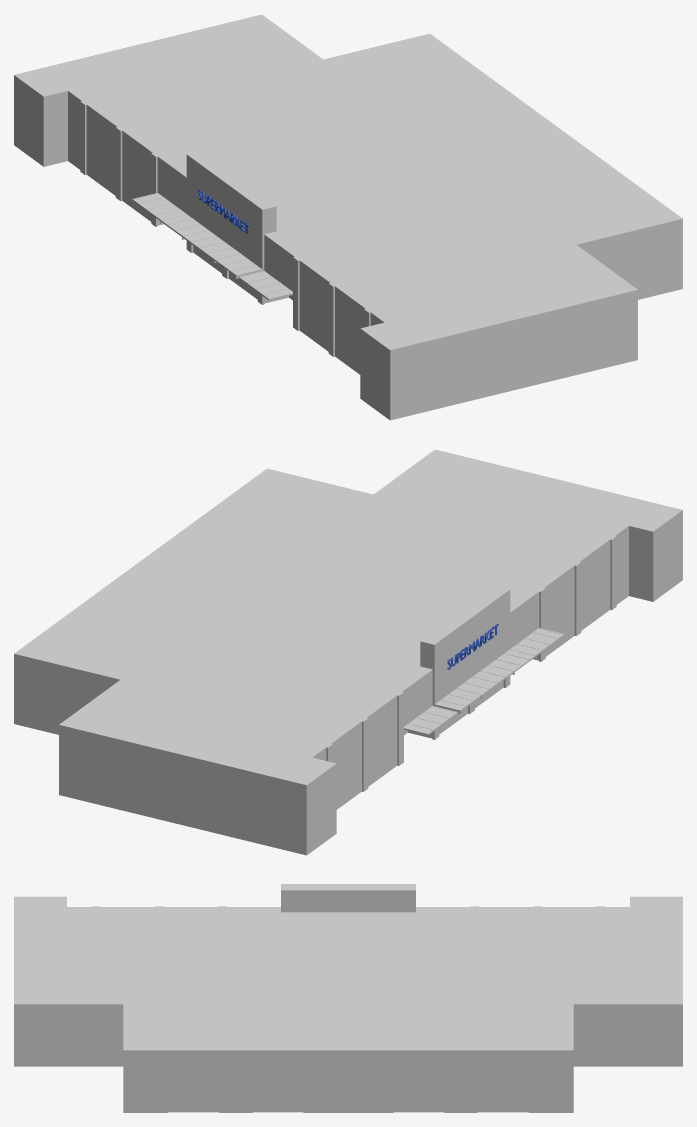
File: supermarket.fbx
3 views of the same model, one above another, from view 1: azimuth 30°, elevation 25°; view 2: azimuth 150°, elevation 25°; view 3: azimuth 270°, elevation 25° (orthographic). The views are drawn at different scales.
Visible parts, largest first — view 1: market.building; view 2: market.building; view 3: market.building.
Part boxes in pixels (x1,y1,x2,y2): market.building: (14,14,682,420); market.building: (14,449,682,855); market.building: (14,884,682,1112).
Bounding box in the file's own units: 3473 × 883 × 6318.
